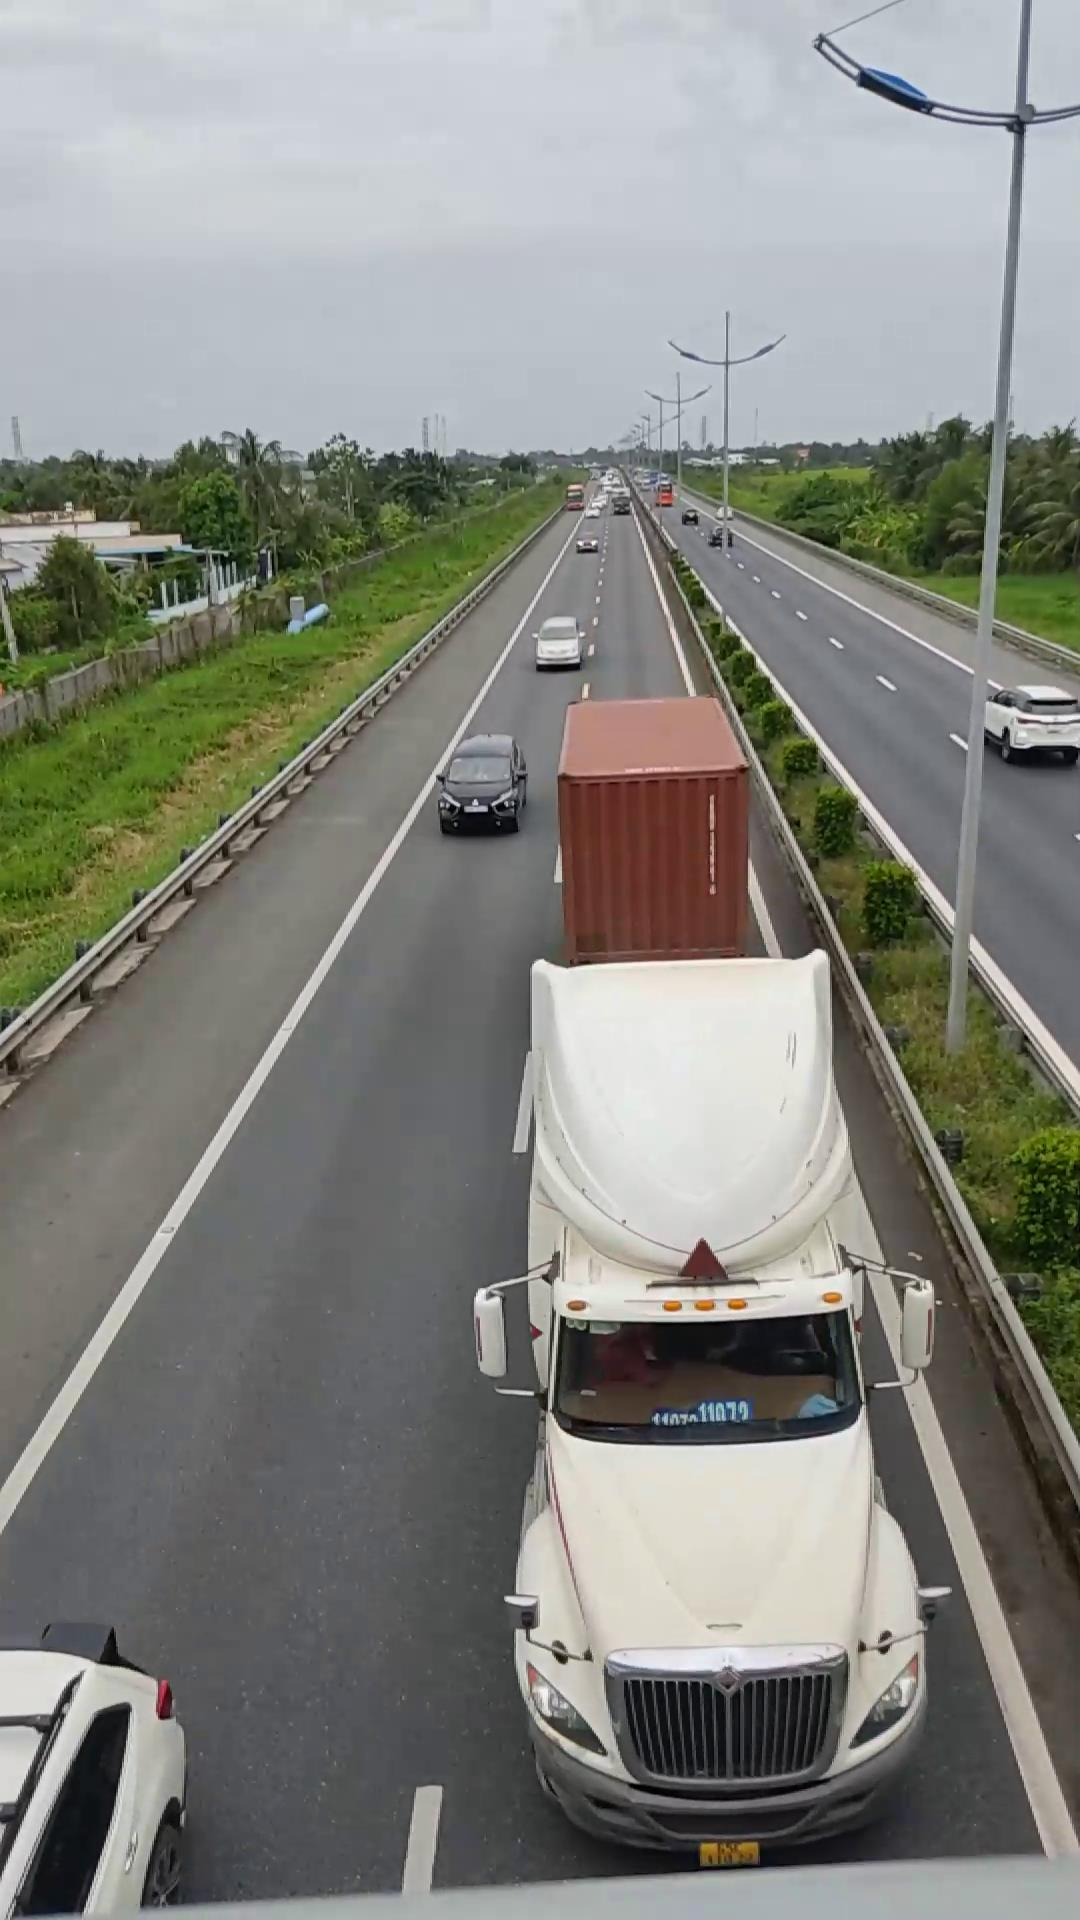car: (488, 695, 936, 1851), (0, 1639, 190, 1915), (432, 722, 530, 837), (978, 678, 1078, 762)
